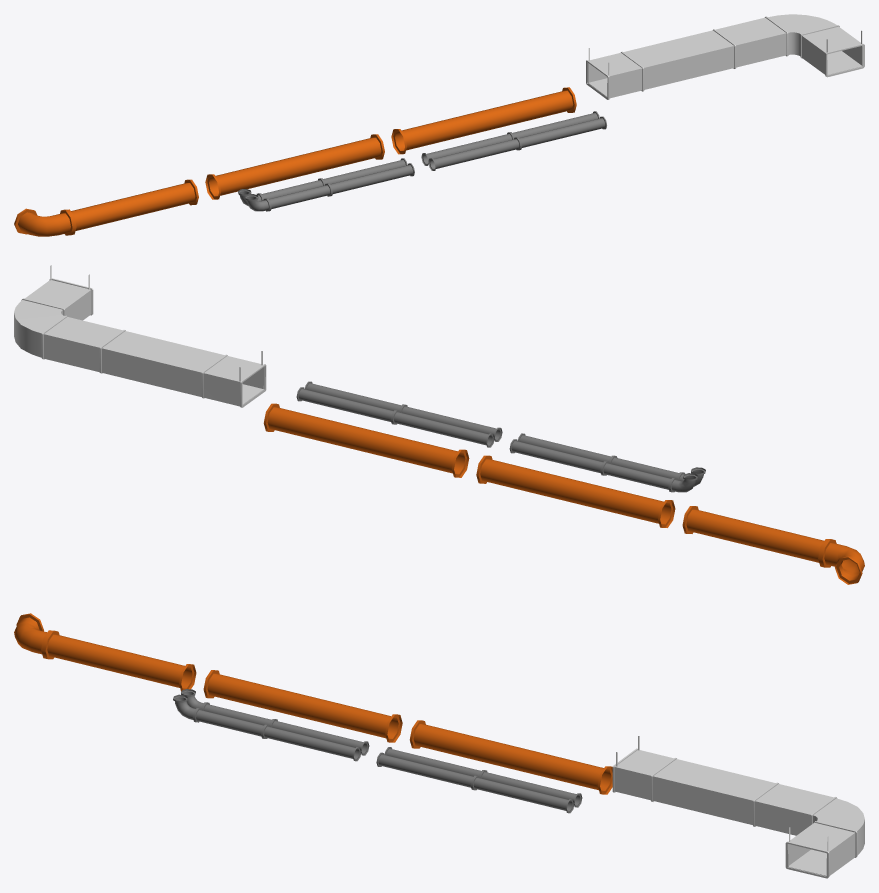
File: SM_H_Building_Tide_InterrogationRoom_10B_ATLAS.fbx
The picture shows the model from 3 angles, top to bottom: view 1: azimuth 30°, elevation 25°; view 2: azimuth 150°, elevation 25°; view 3: azimuth 330°, elevation 25°; orthographic projection. The views are drawn at different scales.
Parts seen in each view (by area): view 1: SM_H_Building_Tide_InterrogationRoom_10B_ATLAS; view 2: SM_H_Building_Tide_InterrogationRoom_10B_ATLAS; view 3: SM_H_Building_Tide_InterrogationRoom_10B_ATLAS.
Part boxes in pixels (bbox=[...]): SM_H_Building_Tide_InterrogationRoom_10B_ATLAS: bbox=[14, 14, 864, 236]; SM_H_Building_Tide_InterrogationRoom_10B_ATLAS: bbox=[14, 265, 864, 584]; SM_H_Building_Tide_InterrogationRoom_10B_ATLAS: bbox=[14, 613, 864, 878].
Bounding box in the file's own units: 2202 × 287 × 148.
